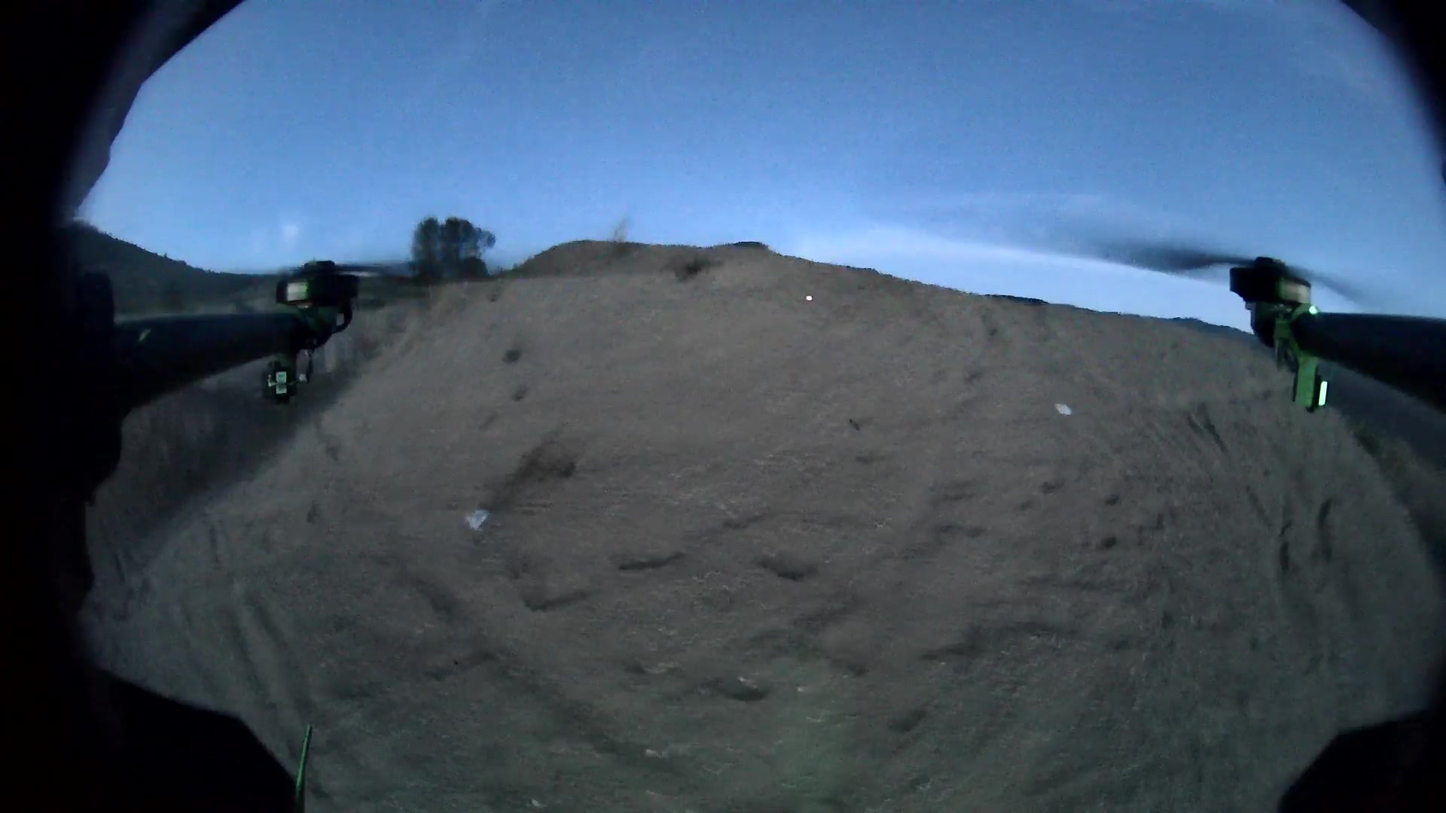Target: (466, 509, 494, 531), (1054, 400, 1073, 416)
